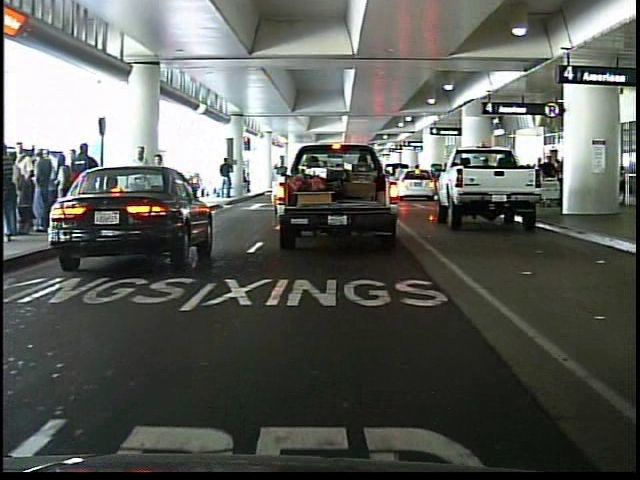person: (67, 139, 102, 235), (126, 143, 152, 231), (148, 148, 172, 227), (217, 156, 235, 199)
